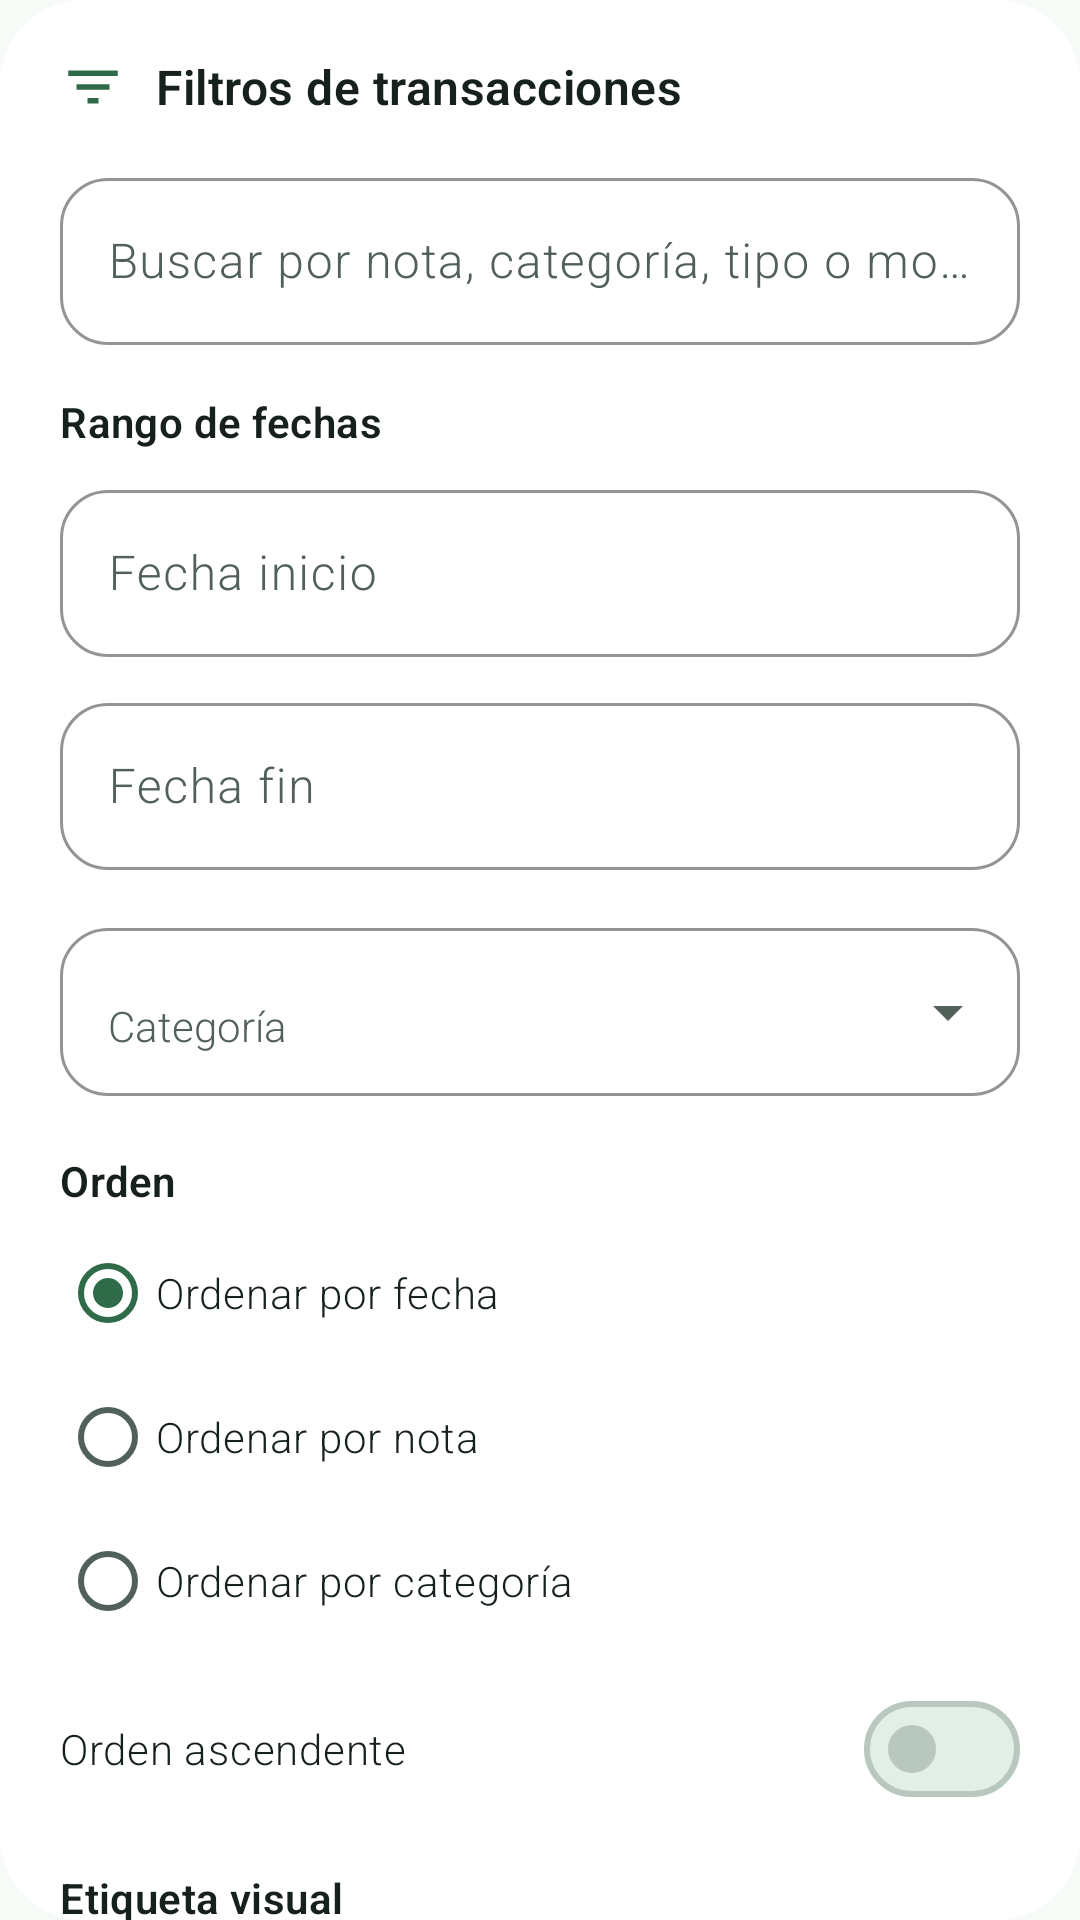

Icons on this 1080×1920 Android screen, each with the point to tap as [x,y]:
Filtrar transacciones: [93,87]
